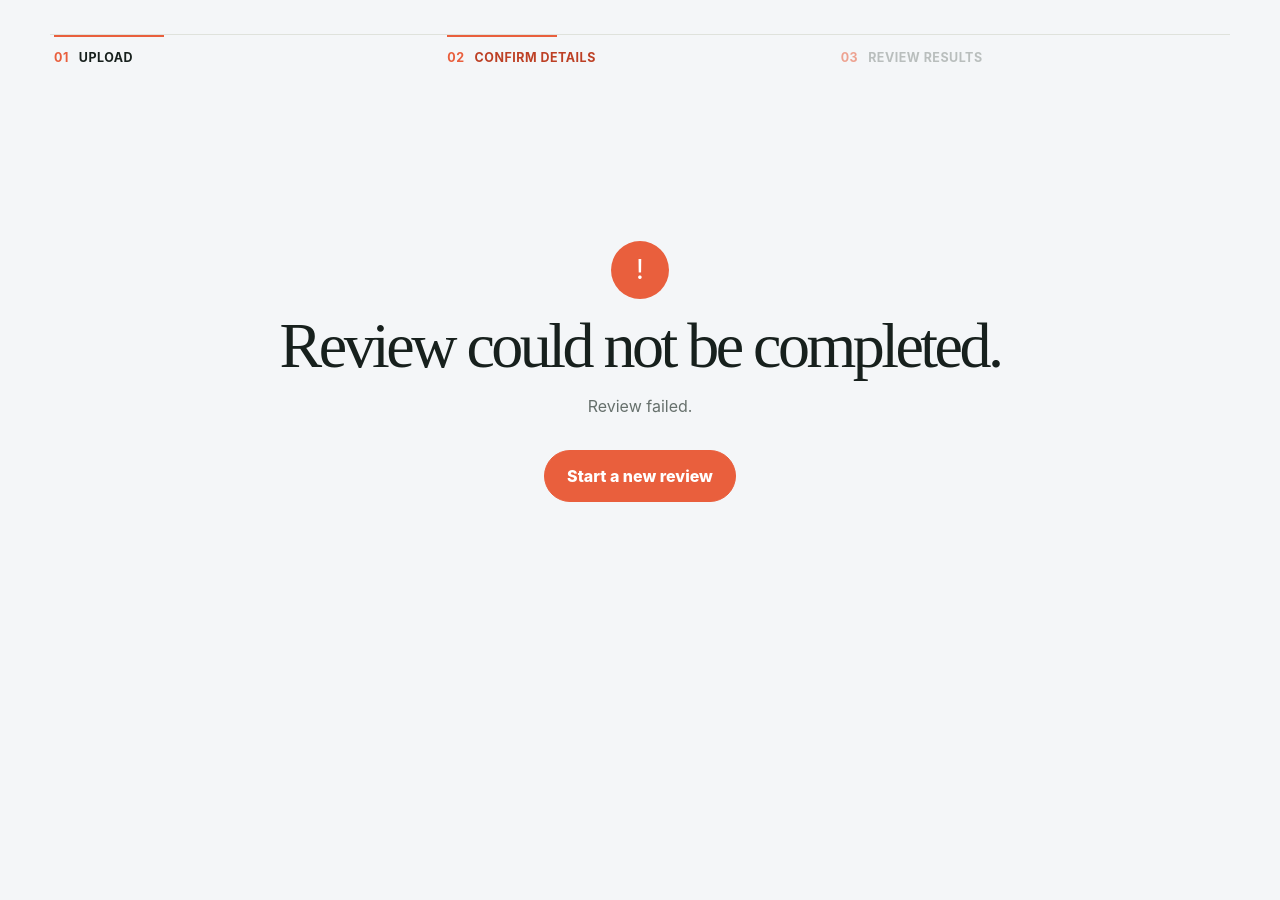
Scenario: upload-first review flow › shows the matching upload panel when a failed review revisits Upload
Expected: the heading "Review could not be completed." is shown, [280,315,1000,378]
Click the tab "01 Upload". click: (106, 58)
box: [50,35,443,68]
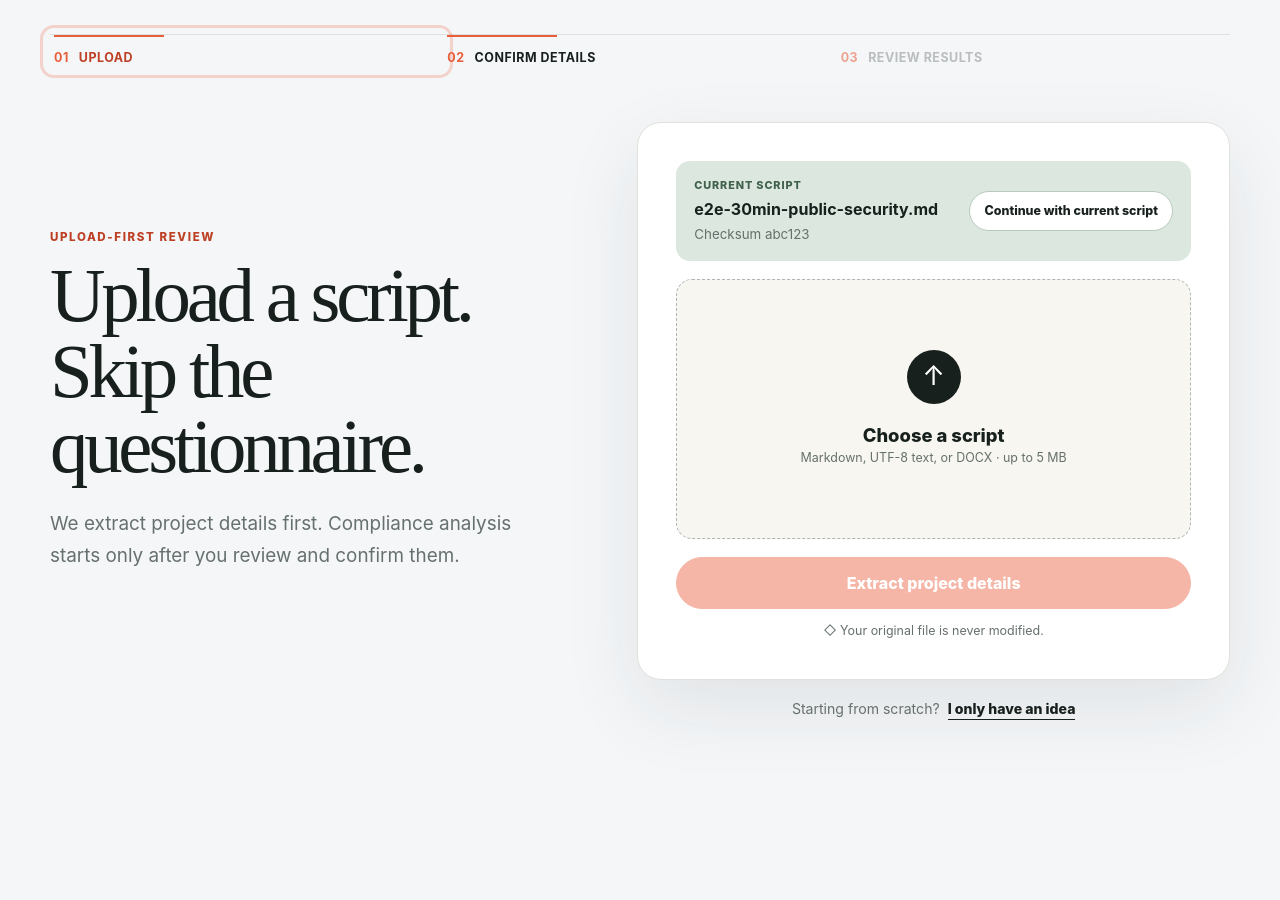
Now the heading "Upload a script. Skip the questionnaire." is shown, box [50,258,535,484]
Now the text "e2e-30min-public-security.md" is shown, box [694,197,952,221]
Now the heading "Review could not be completed." is gone
